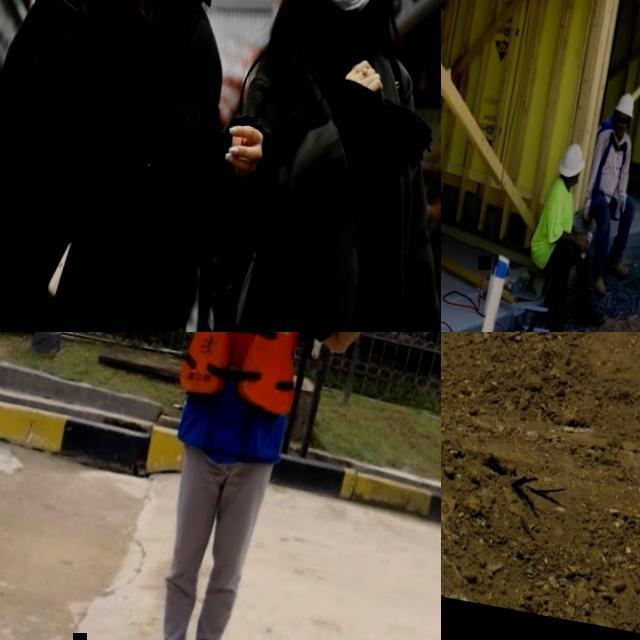Weapon: (501, 68, 635, 329), (536, 125, 600, 217)
objects: (532, 122, 600, 232), (581, 77, 640, 168)
